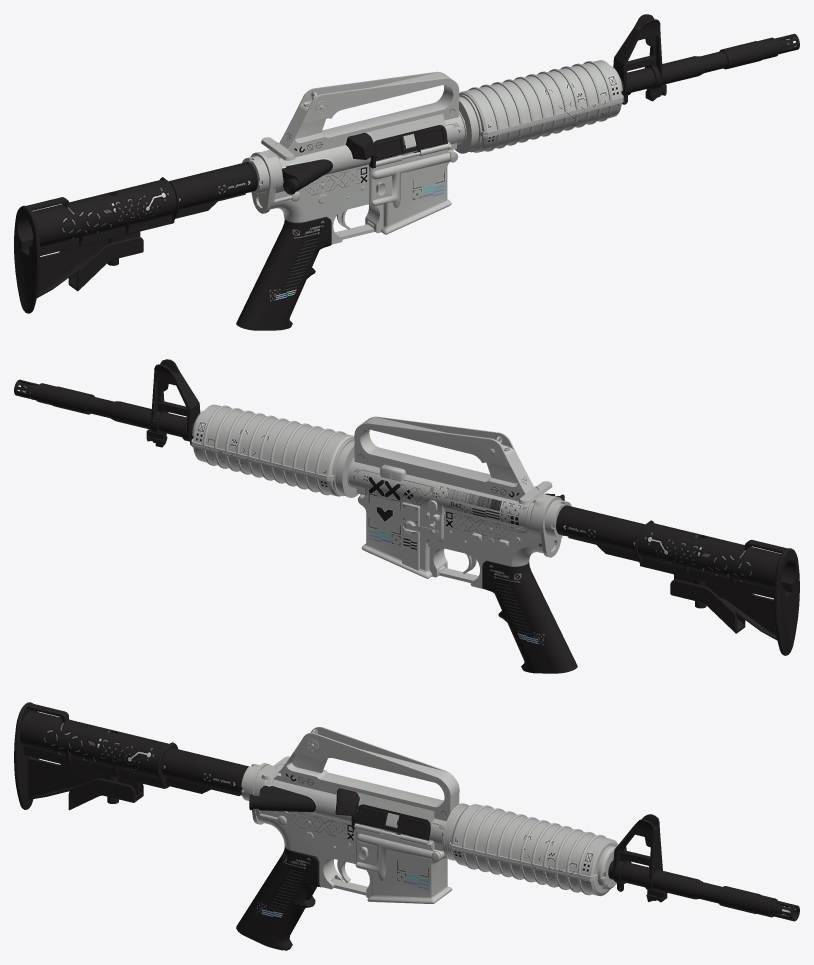
Rendered from w_carbinerifle_printstream.glb.
3 views of the same model, one above another, from view 1: azimuth 30°, elevation 25°; view 2: azimuth 150°, elevation 25°; view 3: azimuth 330°, elevation 25° (orthographic).
Visible parts, largest first — view 1: Gun_Root; view 2: Gun_Root; view 3: Gun_Root.
Boxes of the visible parts, bbox=[...] form: Gun_Root: bbox=[14, 14, 799, 330]; Gun_Root: bbox=[14, 359, 799, 673]; Gun_Root: bbox=[14, 702, 799, 950].
Size of the model in its own units: 0.7831 by 0.2196 by 0.0717.
1 material, 1 textured.
